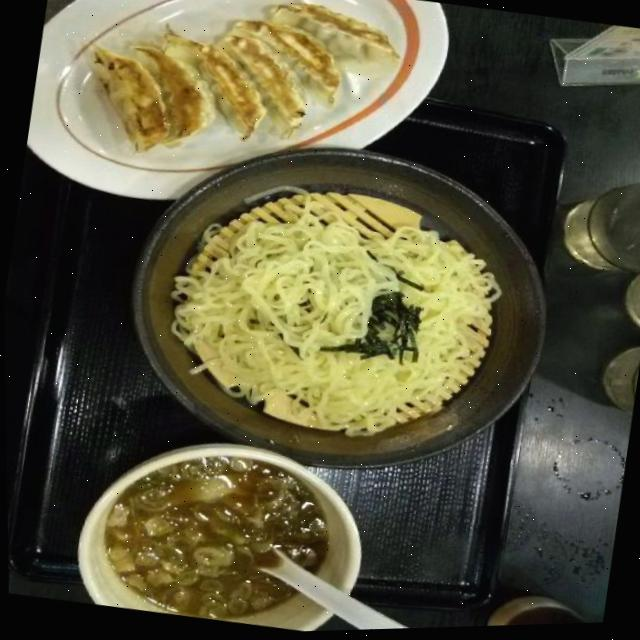带馅早点: (17, 0, 464, 249)
面条主食: (58, 119, 579, 639)
